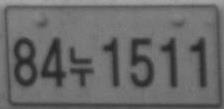1: (159, 36, 186, 87), (188, 36, 214, 87), (100, 37, 126, 86)
4: (40, 36, 66, 86)
5: (129, 37, 154, 87)
8: (12, 36, 38, 86)
누: (68, 46, 94, 86)
